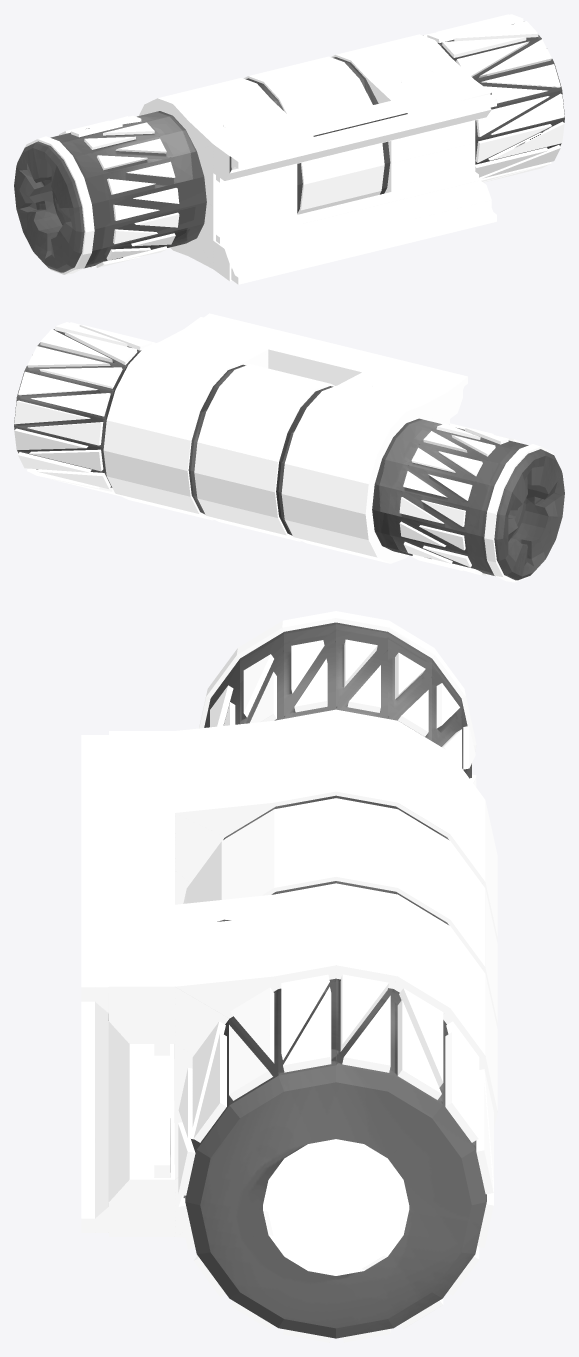
Rendered from NcSTAR(TacticalBlueLaser).fbx.
3 views of the same model, one above another, from view 1: azimuth 30°, elevation 25°; view 2: azimuth 150°, elevation 25°; view 3: azimuth 270°, elevation 25° (orthographic). The views are drawn at different scales.
Parts seen in each view (by area): view 1: NcSTAR(TacticalBlueLaser); view 2: NcSTAR(TacticalBlueLaser); view 3: NcSTAR(TacticalBlueLaser).
Part boxes in pixels (left/top/right/bottom): NcSTAR(TacticalBlueLaser): left=14, top=14, right=564, bottom=284; NcSTAR(TacticalBlueLaser): left=14, top=313, right=564, bottom=582; NcSTAR(TacticalBlueLaser): left=81, top=611, right=497, bottom=1342.
Bounding box in the file's own units: 14.14 × 4.02 × 5.18.
